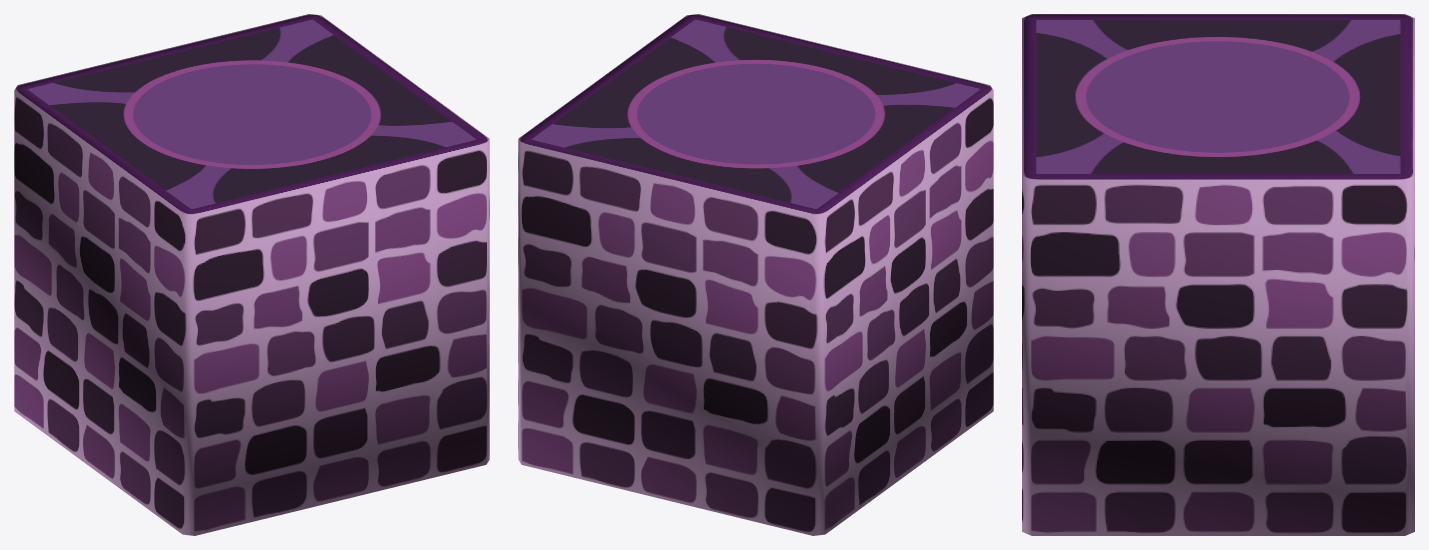
Rendered from portal_block_-_block.obj.
3 views of the same model, side by side, from view 1: azimuth 30°, elevation 25°; view 2: azimuth 150°, elevation 25°; view 3: azimuth 270°, elevation 25° (orthographic). The views are drawn at different scales.
Parts seen in each view (by area): view 1: Portal_Block; view 2: Portal_Block; view 3: Portal_Block.
Boxes of the visible parts, left/top/right/bottom form: Portal_Block: left=14, top=14, right=489, bottom=535; Portal_Block: left=518, top=14, right=993, bottom=535; Portal_Block: left=1022, top=14, right=1414, bottom=535.
Size of the model in its own units: 2 by 2 by 2.
Materials: 1 (1 with a texture image).
